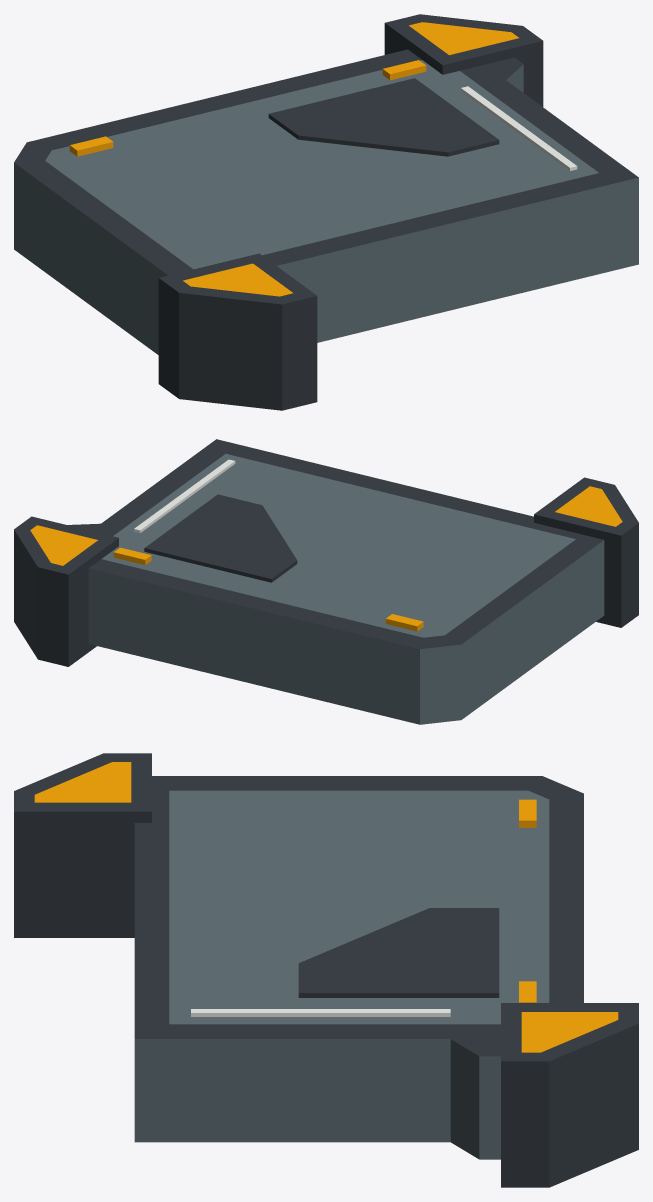
Rendered from prop49.FBX.
The picture shows the model from 3 angles, top to bottom: view 1: azimuth 30°, elevation 25°; view 2: azimuth 150°, elevation 25°; view 3: azimuth 270°, elevation 25°; orthographic projection. The views are drawn at different scales.
Visible parts, largest first — view 1: prop49; view 2: prop49; view 3: prop49.
Boxes of the visible parts, x1,y1,x2,y2 form: prop49: (14,14,638,410); prop49: (14,439,638,724); prop49: (14,753,638,1187).
Size of the model in its own units: 13.79 by 2.64 by 11.82.
